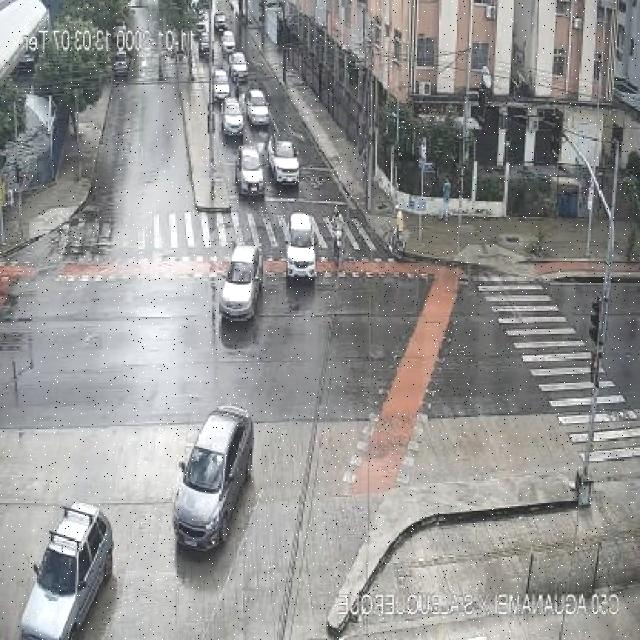Car: (17, 501, 114, 640), (171, 403, 256, 552), (218, 243, 263, 325), (284, 212, 317, 279), (266, 133, 302, 186), (235, 144, 266, 196), (220, 97, 245, 137), (245, 89, 271, 126), (211, 68, 231, 102), (228, 52, 250, 82), (112, 51, 130, 78), (220, 29, 237, 55), (198, 32, 215, 57), (194, 21, 205, 35)
Cycle: (330, 220, 349, 264)
